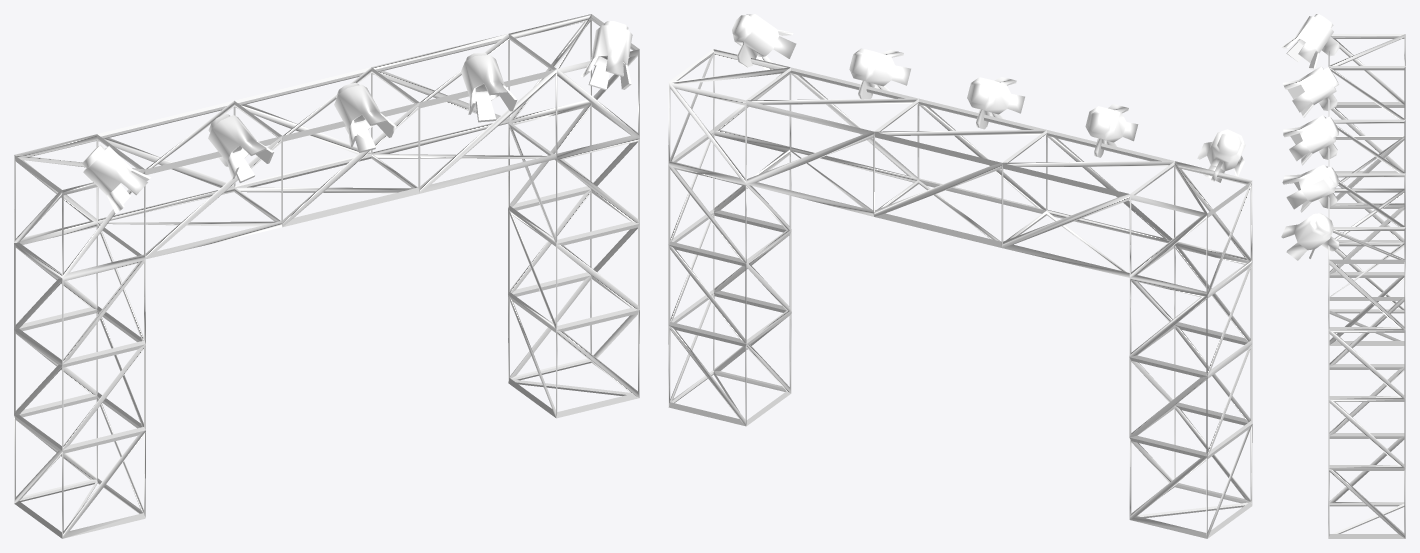
The model's file is StageTrussLightLighting.glb.
The picture shows the model from 3 angles, left to right: view 1: azimuth 30°, elevation 25°; view 2: azimuth 150°, elevation 25°; view 3: azimuth 270°, elevation 25°; orthographic projection. The views are drawn at different scales.
Parts seen in each view (by area): view 1: StageTrussLightLighting; view 2: StageTrussLightLighting; view 3: StageTrussLightLighting.
Part boxes in pixels (x1,y1,x2,y2): StageTrussLightLighting: [14, 14, 639, 538]; StageTrussLightLighting: [668, 14, 1252, 538]; StageTrussLightLighting: [1281, 14, 1405, 538].
Bounding box in the file's own units: 14.03 × 9.03 × 3.27.
1 material, 1 textured.
